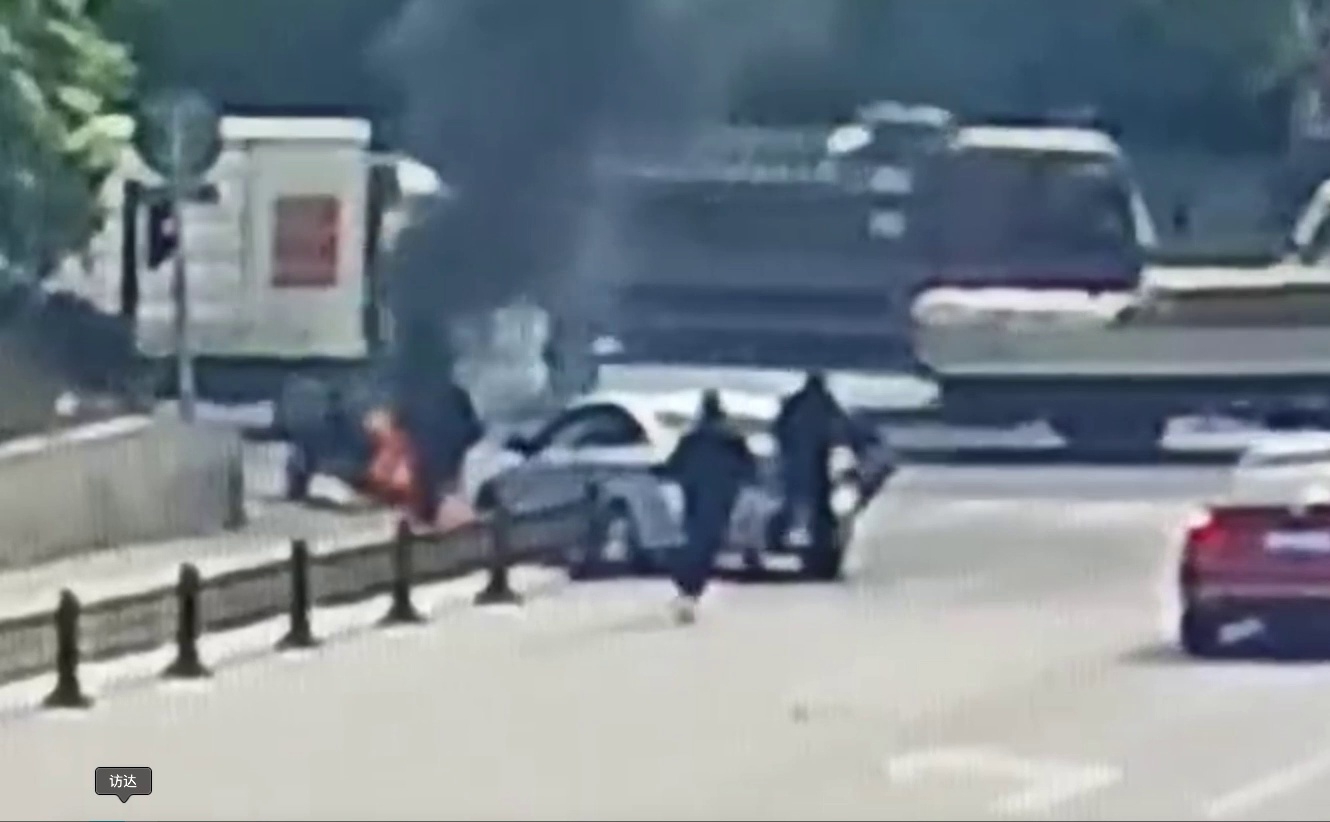smoke: (363, 39, 563, 511)
